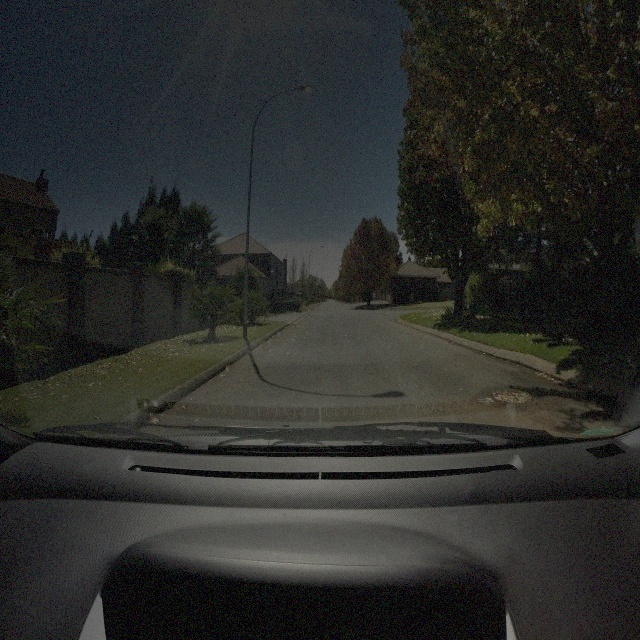pothole: (492, 388, 534, 406)
